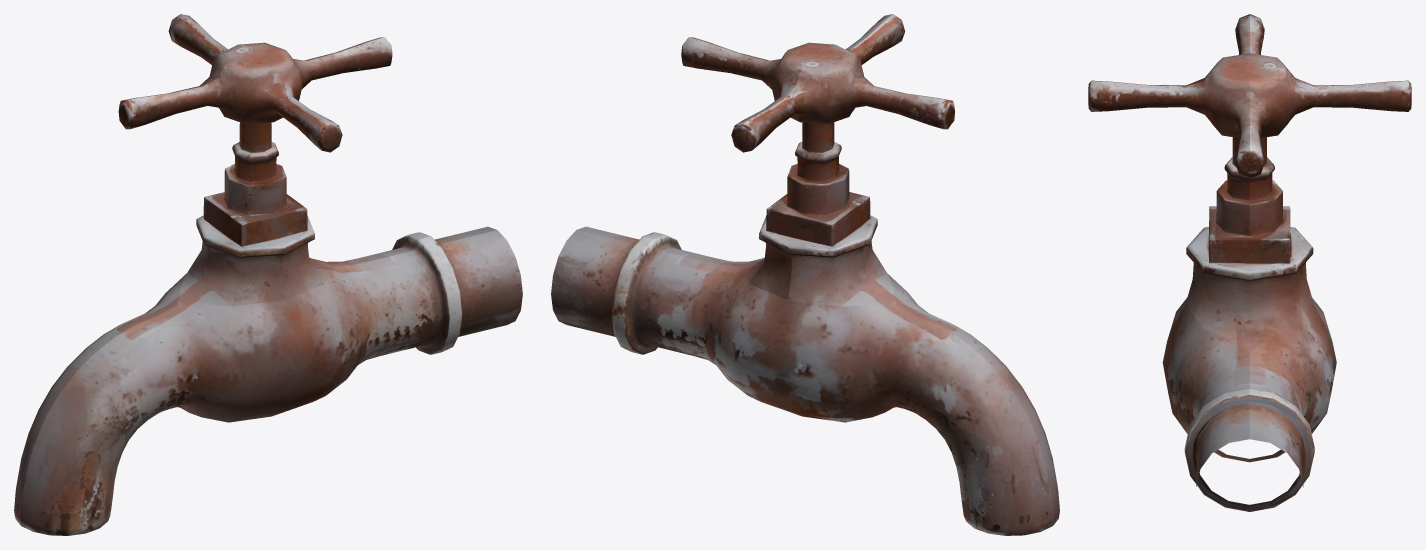
The model's file is mvadapter.glb.
The picture shows the model from 3 angles, left to right: view 1: azimuth 30°, elevation 25°; view 2: azimuth 150°, elevation 25°; view 3: azimuth 270°, elevation 25°; orthographic projection. The views are drawn at different scales.
Visible parts, largest first — view 1: mvadapter_node_texture_mesh_71bffc4937cbd2ca; view 2: mvadapter_node_texture_mesh_71bffc4937cbd2ca; view 3: mvadapter_node_texture_mesh_71bffc4937cbd2ca.
Boxes of the visible parts, x1=… form: mvadapter_node_texture_mesh_71bffc4937cbd2ca: x1=14, y1=14, x2=522, y2=535; mvadapter_node_texture_mesh_71bffc4937cbd2ca: x1=551, y1=14, x2=1059, y2=535; mvadapter_node_texture_mesh_71bffc4937cbd2ca: x1=1088, y1=14, x2=1411, y2=511.
Size of the model in its own units: 5.92 by 4.9 by 3.28.
Materials: 1 (1 with a texture image).
